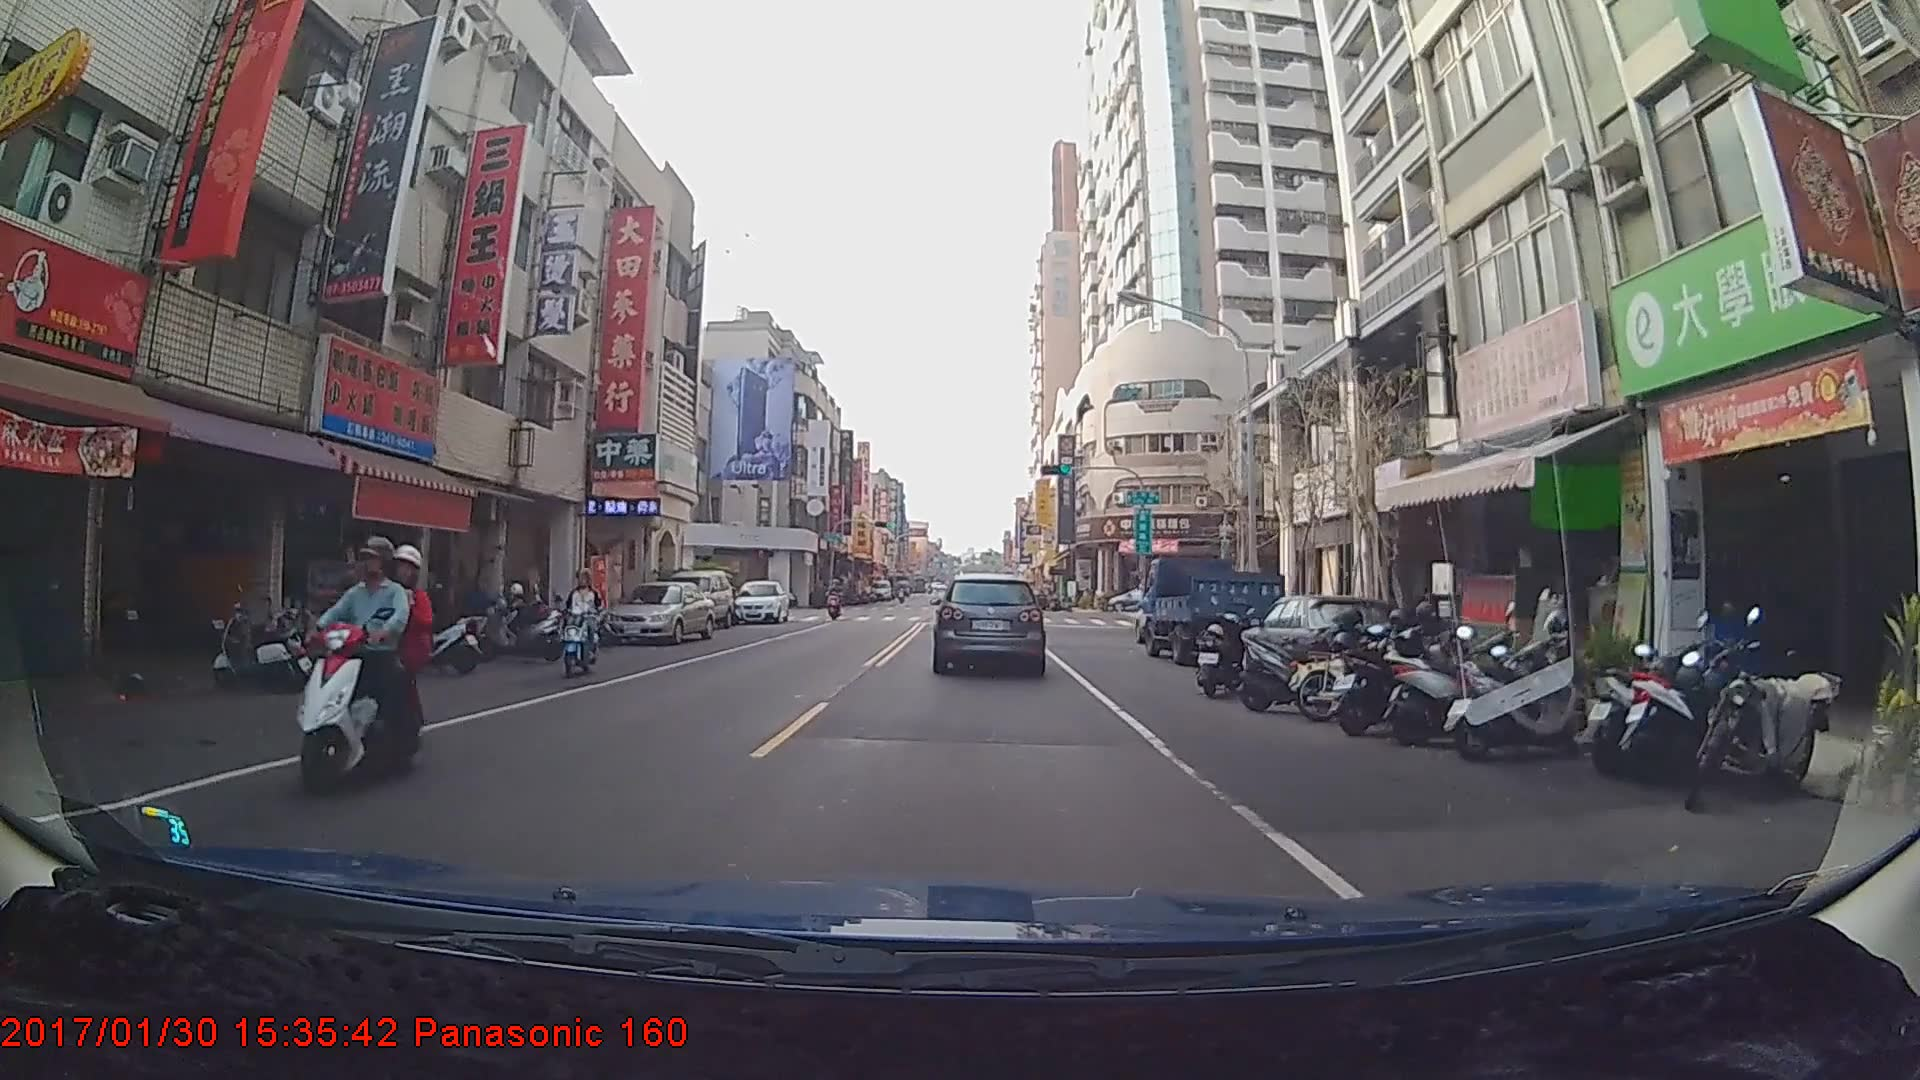rider: (275, 536, 423, 792), (562, 569, 610, 678), (826, 581, 846, 626)
vehicle: (1140, 550, 1287, 665), (935, 572, 1045, 674), (601, 581, 716, 644), (662, 565, 738, 629), (733, 578, 790, 625)
